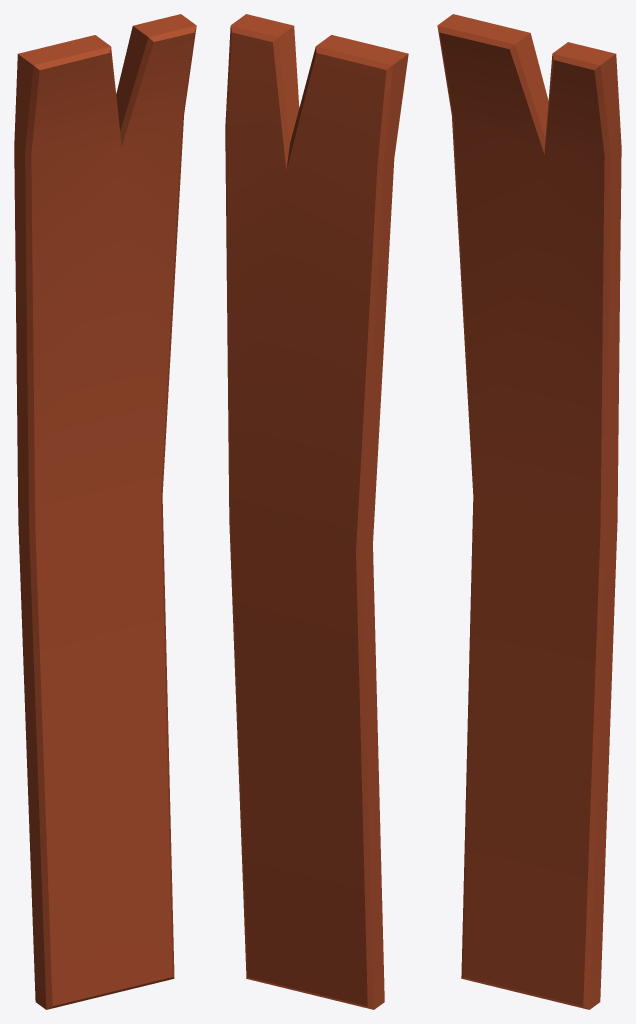
The model's file is SM_Plank_003.fbx.
The picture shows the model from 3 angles, left to right: view 1: azimuth 30°, elevation 25°; view 2: azimuth 150°, elevation 25°; view 3: azimuth 330°, elevation 25°; orthographic projection.
Parts seen in each view (by area): view 1: Plank_003; view 2: Plank_003; view 3: Plank_003.
Boxes of the visible parts, x1,y1,x2,y2 form: Plank_003: (14, 14, 196, 1009); Plank_003: (225, 14, 408, 1009); Plank_003: (437, 14, 621, 1009).
Size of the model in its own units: 28.52 by 159 by 10.66.
1 material, 1 textured.
